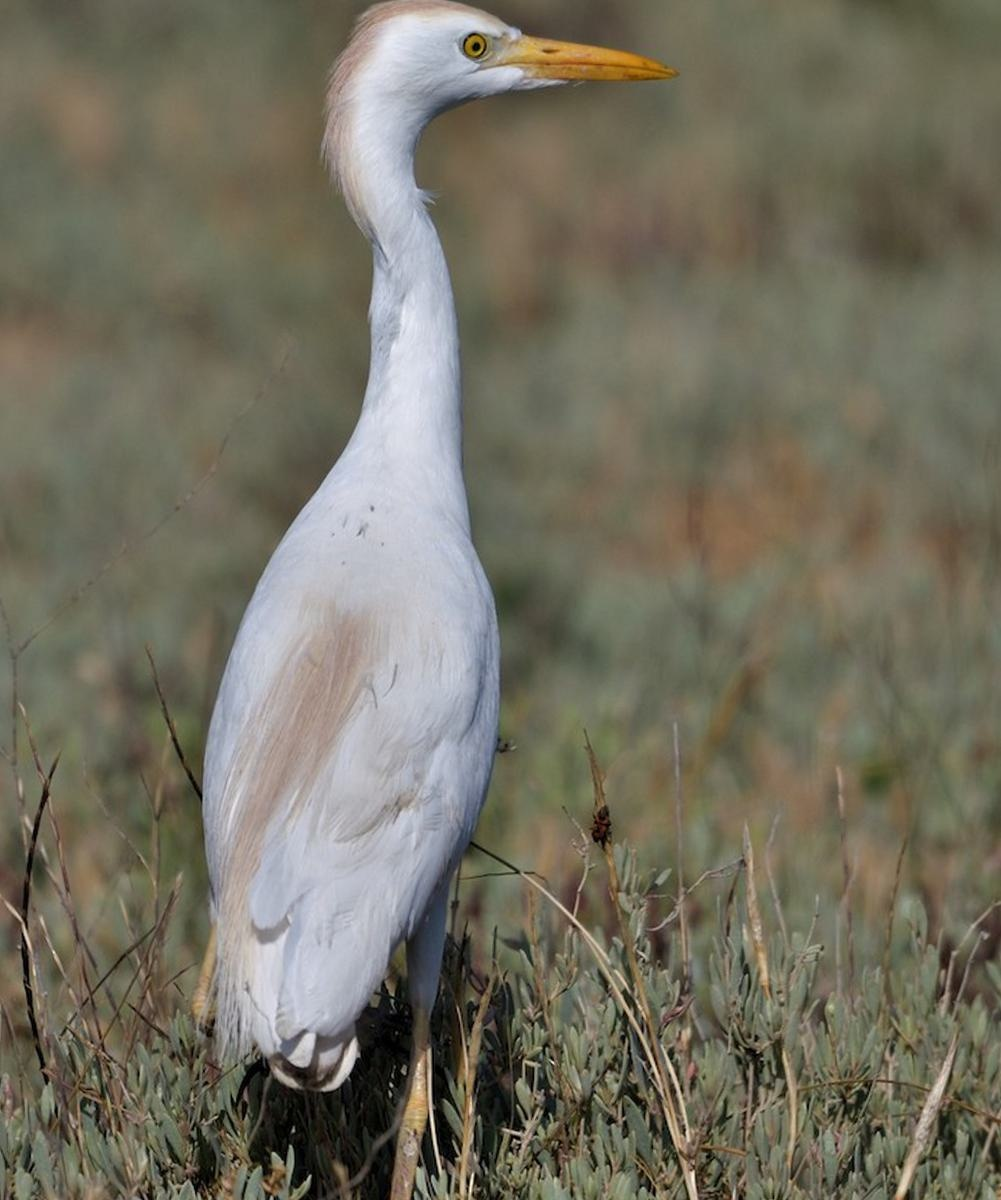egret: (147, 8, 710, 1112)
